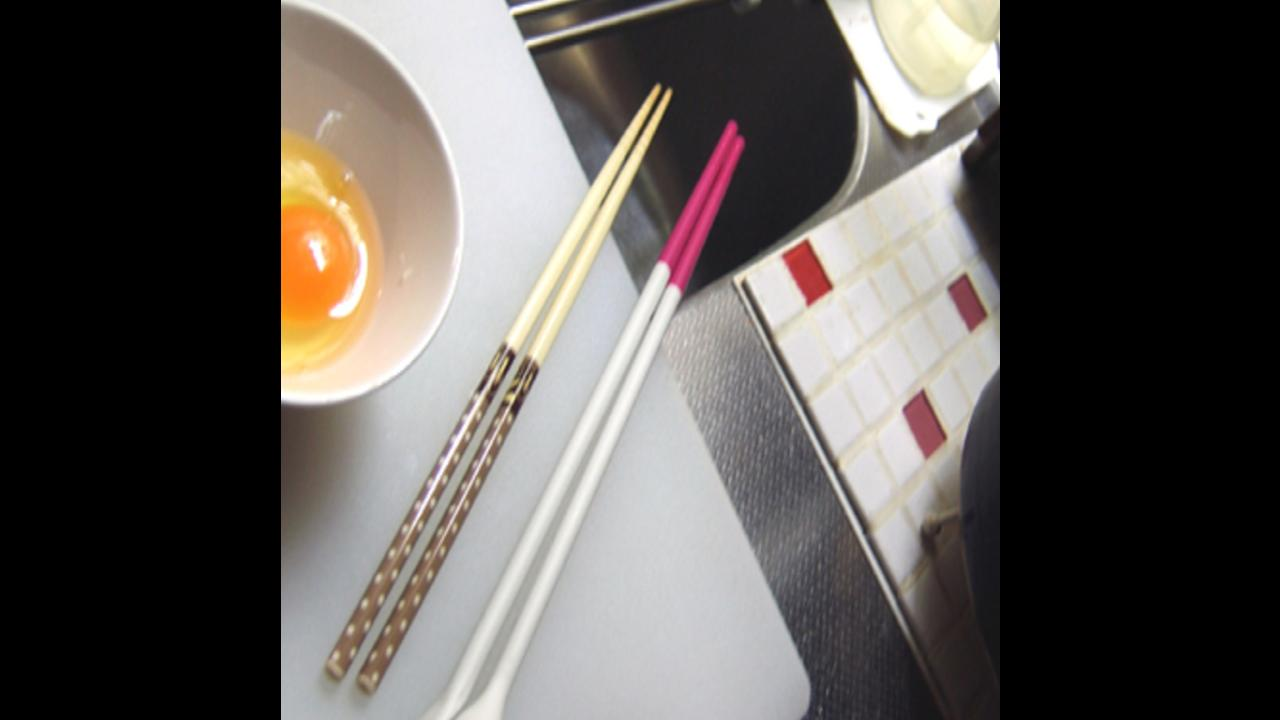chopstick: (323, 89, 675, 696)
